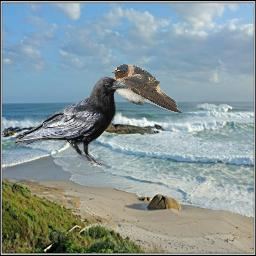Crow: (12, 75, 130, 168)
Swallow: (111, 64, 183, 113)
